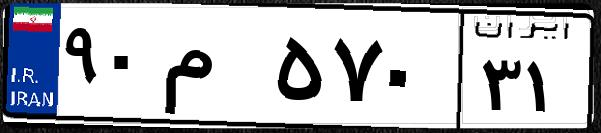0: (385, 28, 445, 110), (110, 28, 158, 98)
1: (525, 38, 570, 115)
3: (475, 38, 525, 113)
5: (270, 28, 330, 110)
7: (330, 28, 385, 110)
9: (57, 26, 110, 100)
م: (158, 20, 270, 120)
